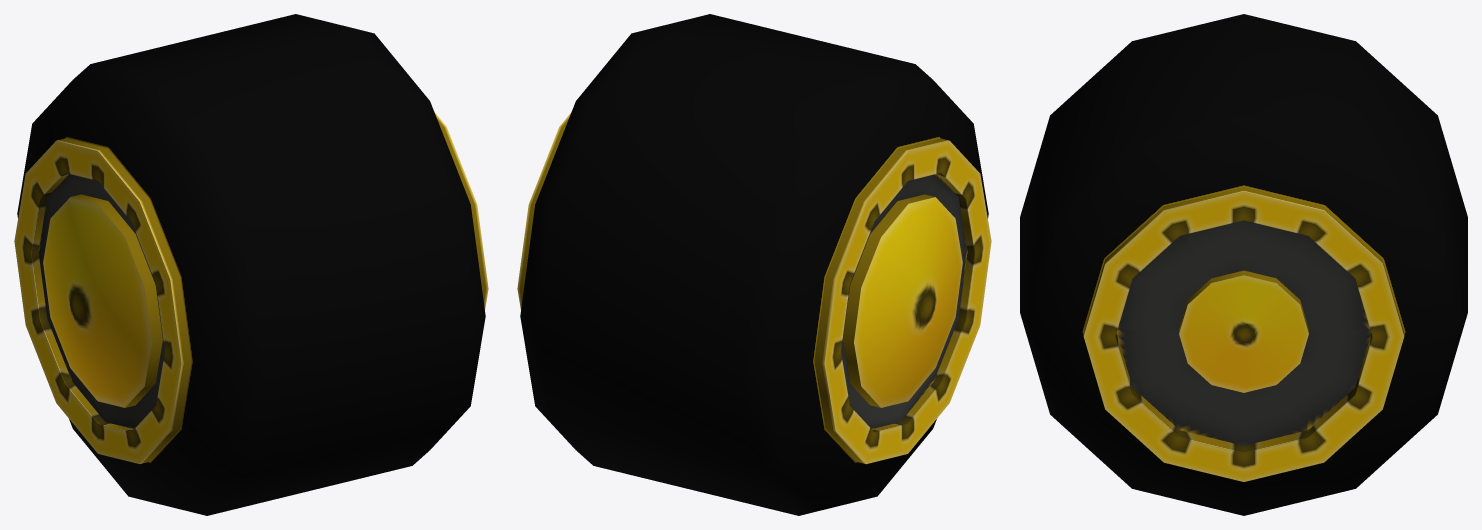
File: wheel_schoolbus.FBX
The picture shows the model from 3 angles, left to right: view 1: azimuth 30°, elevation 25°; view 2: azimuth 150°, elevation 25°; view 3: azimuth 270°, elevation 25°; orthographic projection. The views are drawn at different scales.
Visible parts, largest first — view 1: Object027; view 2: Object027; view 3: Object027.
Part boxes in pixels (box(x1,y1,x2,y2)): Object027: box(14, 14, 488, 515); Object027: box(517, 14, 991, 515); Object027: box(1020, 14, 1467, 515).
Bounding box in the file's own units: 0.1068 × 0.1312 × 0.1312.
